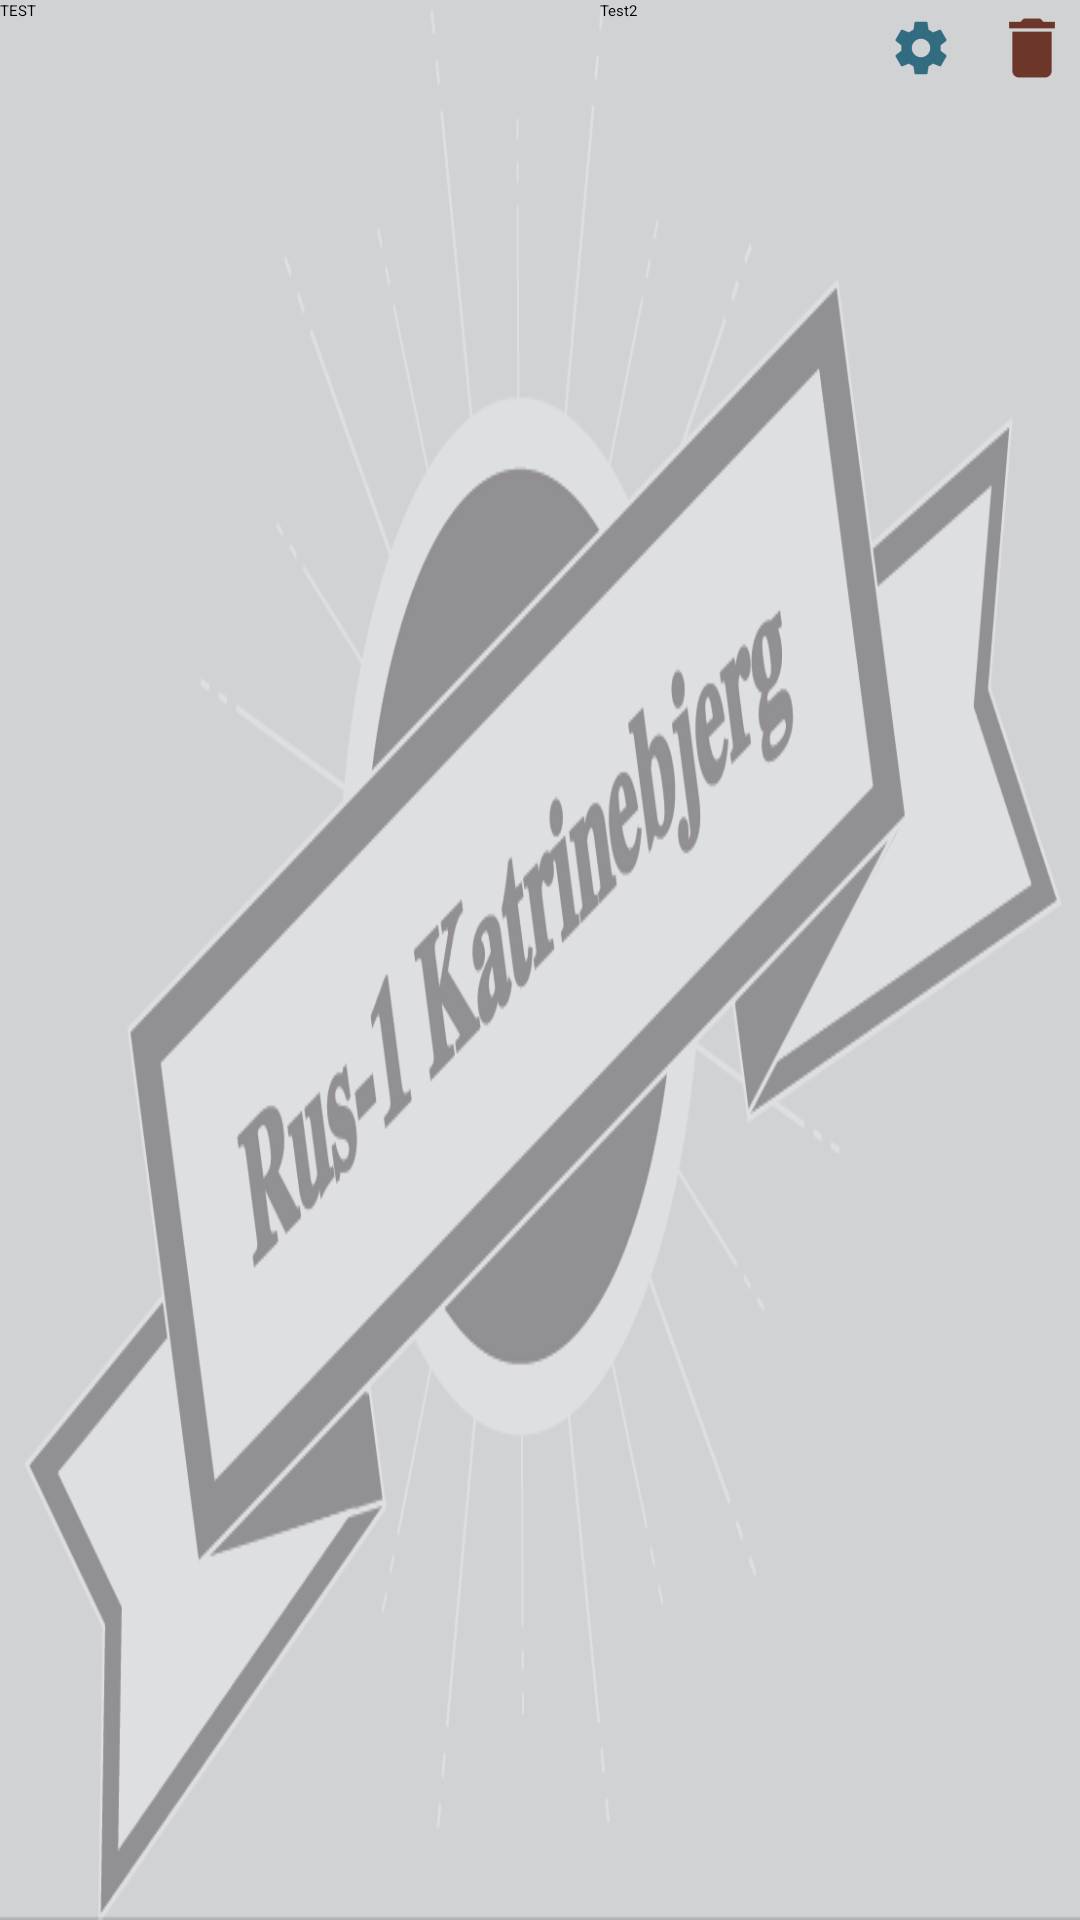

Point at icon controls on the screen. Image size 1080 × 1920, points as (x=x, y=y).
delete: (x=1032, y=48)
